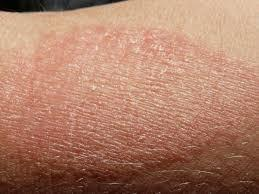Goosebumps: (0, 0, 257, 193)
